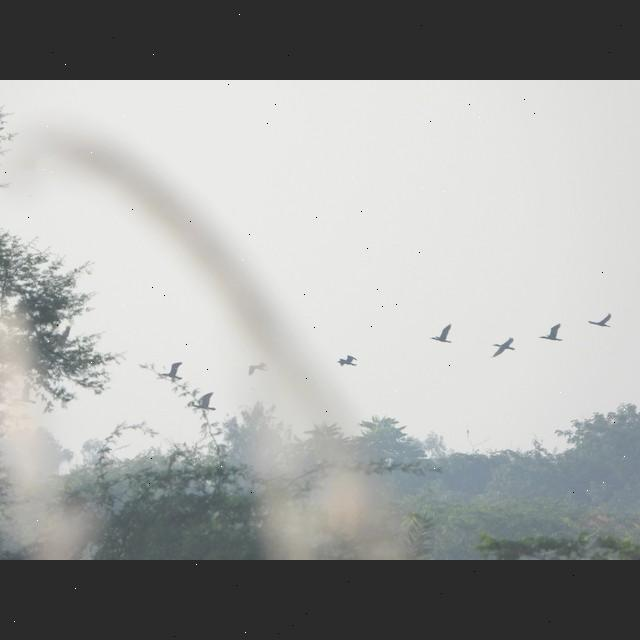cormorant: (187, 390, 221, 422), (425, 320, 453, 350), (160, 352, 182, 388), (490, 336, 520, 362), (537, 324, 567, 346), (589, 309, 615, 333)
